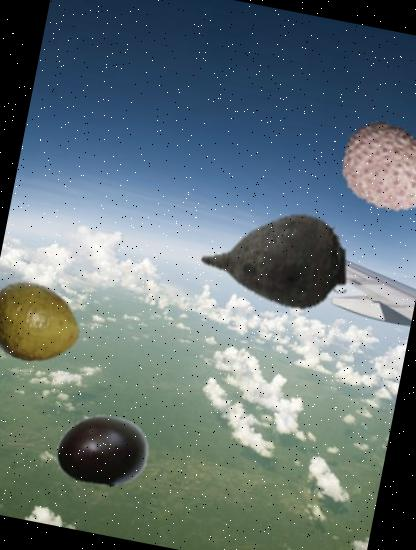Beetroot: (188, 174, 362, 348)
Eggplant: (48, 396, 158, 507)
Guava: (0, 270, 88, 377)
Lychee: (325, 107, 416, 230)
